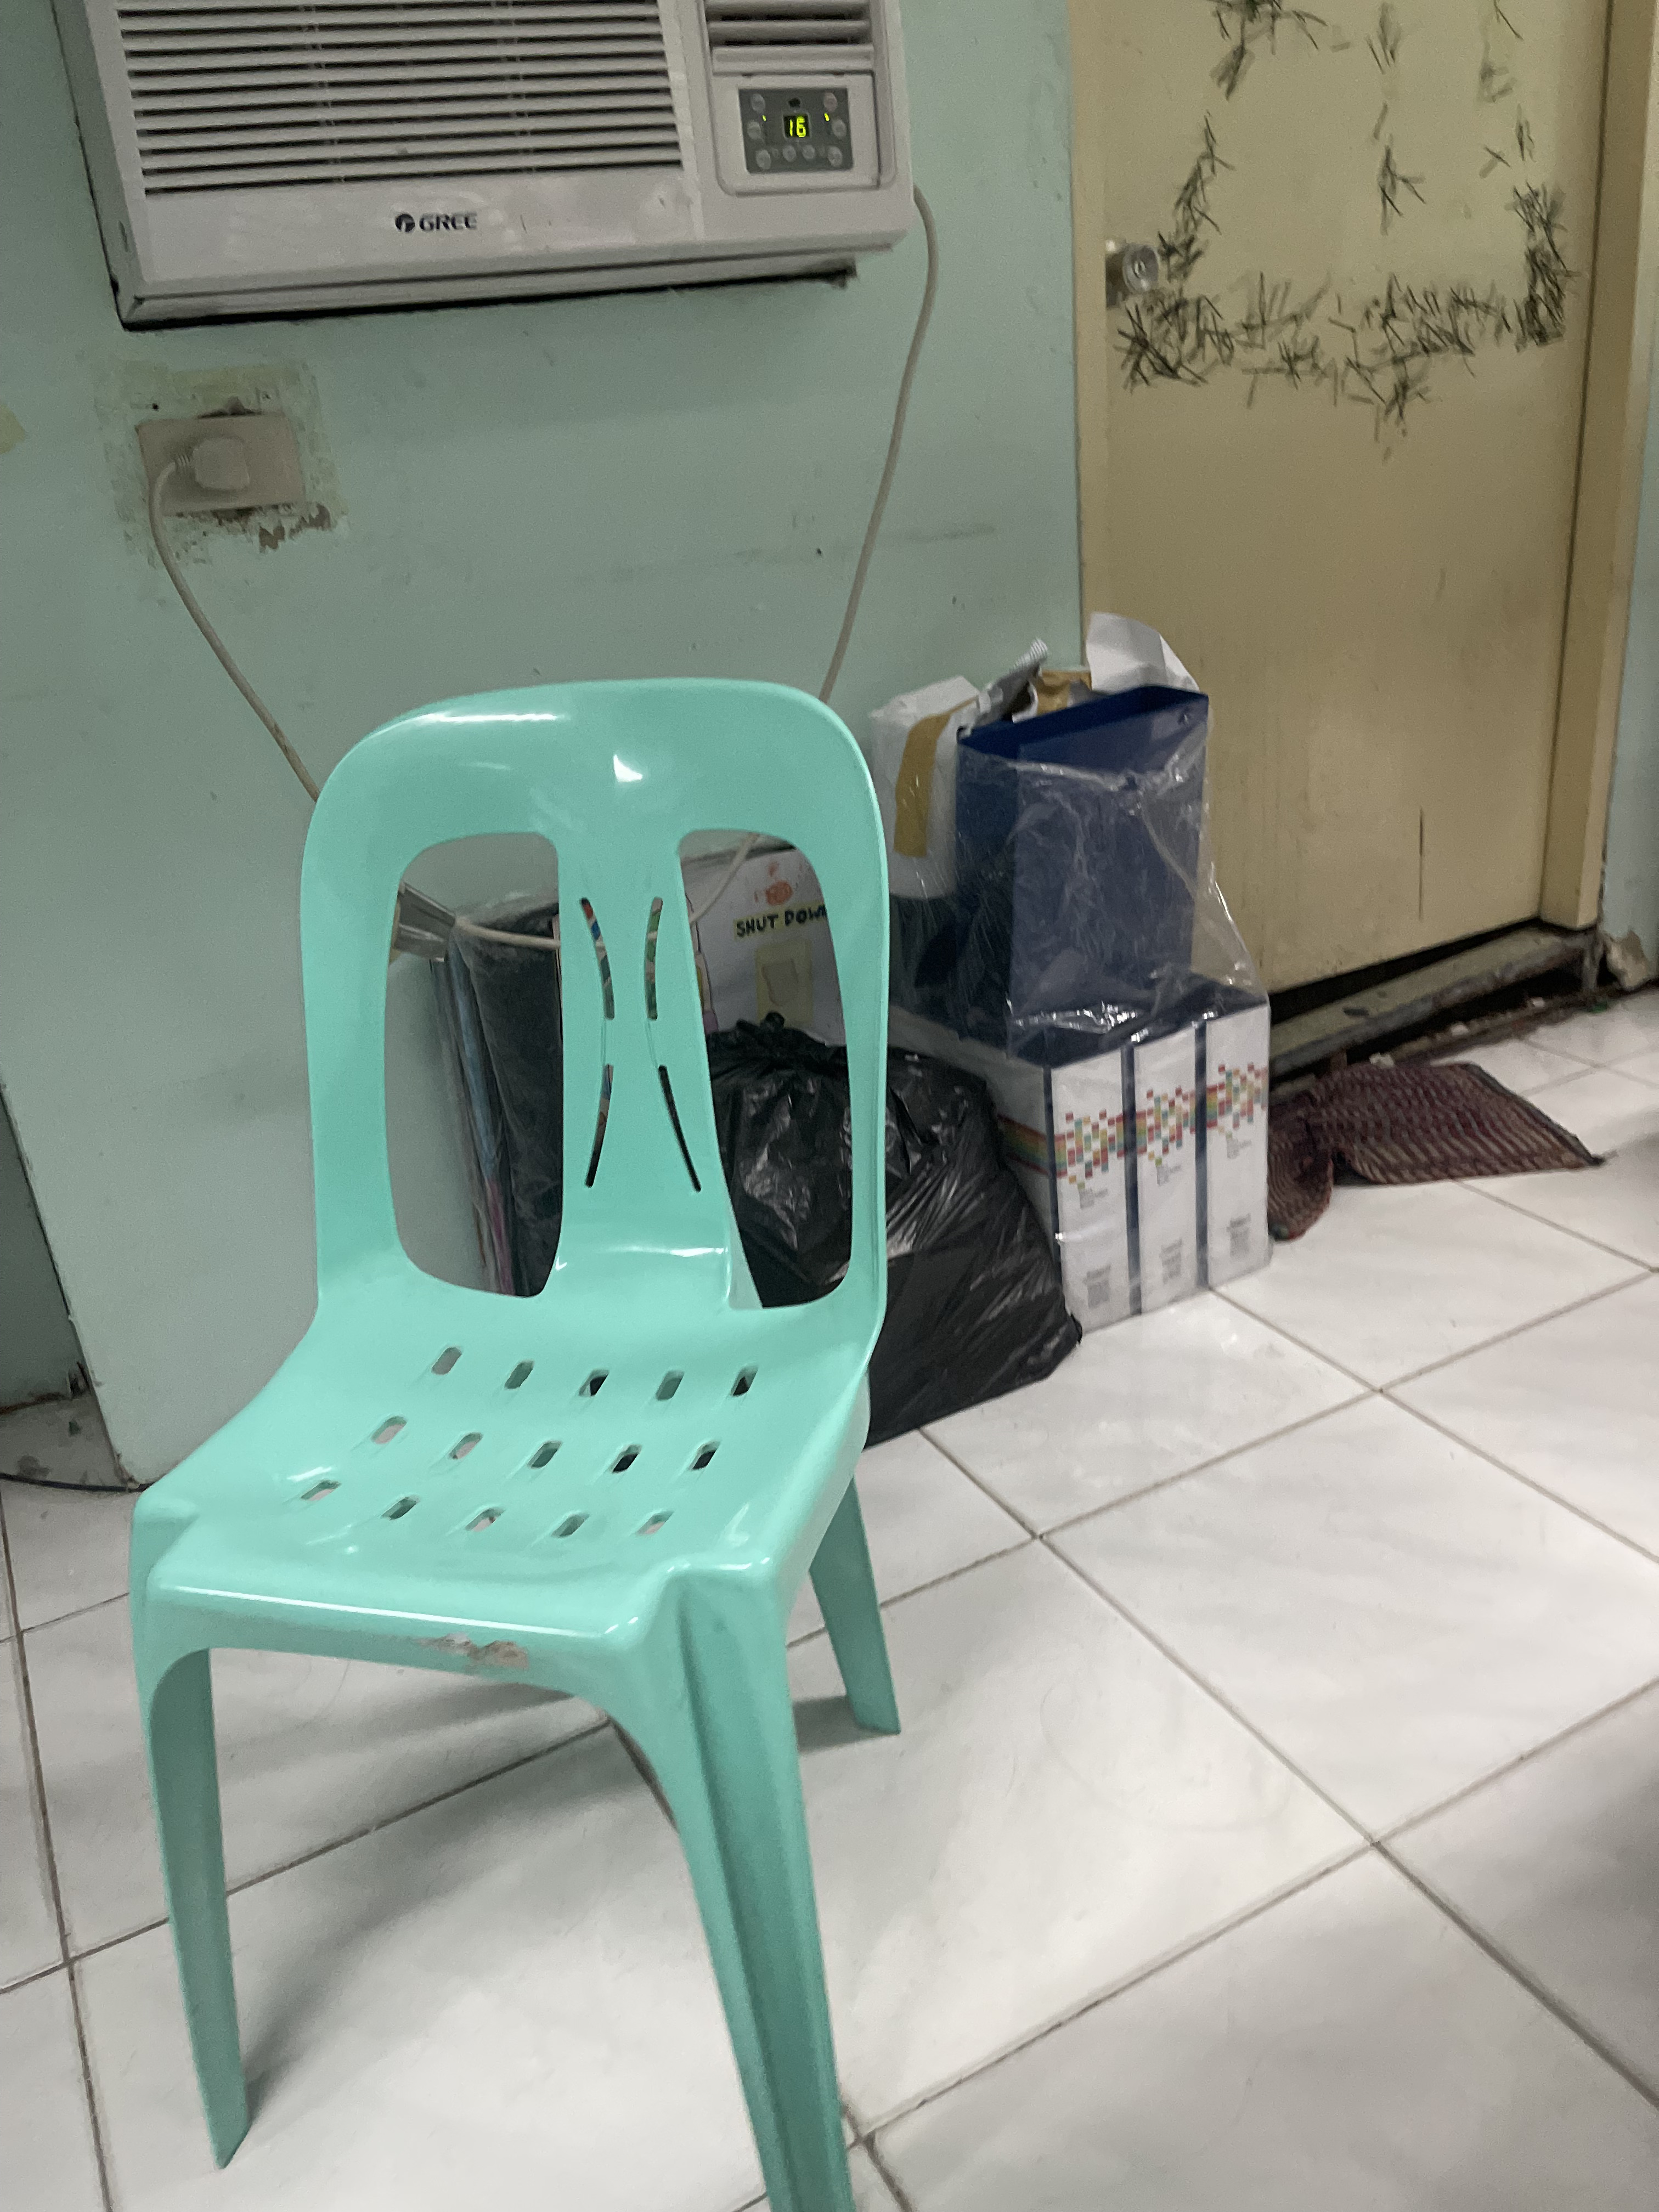chair2: (124, 674, 917, 2212)
